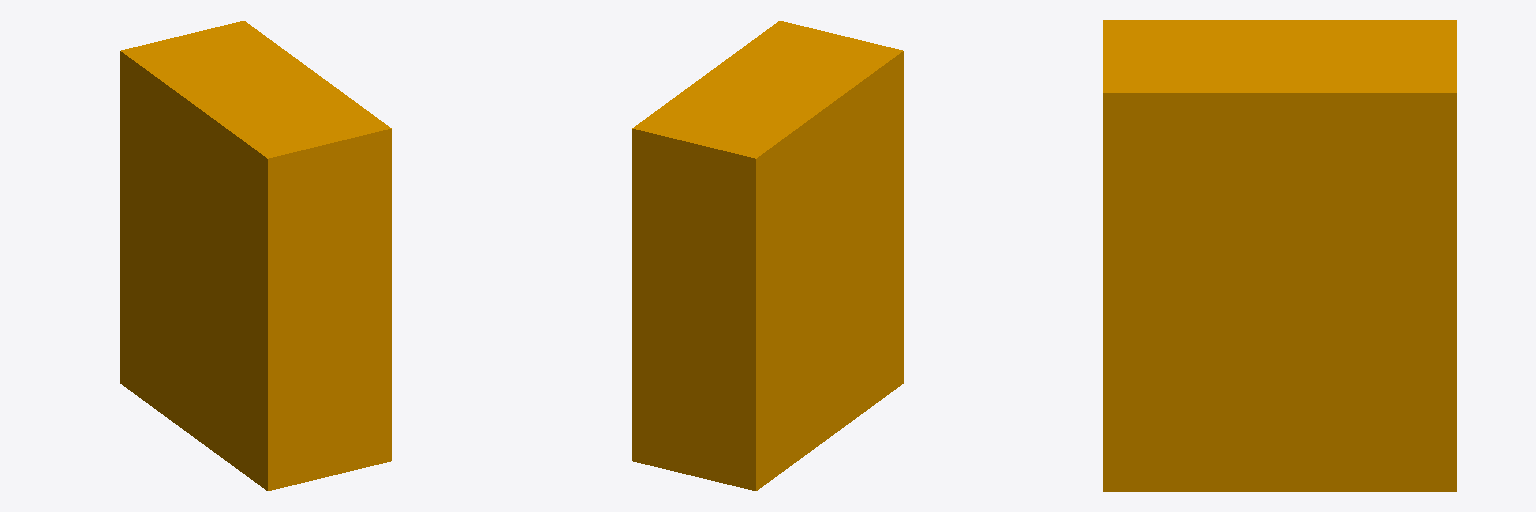
URDF robot description (box_3):
<robot name="box_3">
        <link name="base">
            <inertial>
                <mass value="0.2"/>
                <inertia ixx="0.0001" ixy="0" ixz="0" iyy="0.0001" iyz="0" izz="0.0001"/>
            </inertial>
            <visual>
                <geometry><mesh filename="box_3.obj" scale="1 1 1"/></geometry>
            </visual>
            <collision>
                <geometry><box size="0.025667980077840043 0.05290958749639613 0.06584294254184517"/></geometry>
            </collision>
        </link></robot>

--- Render facts (derived) ---
The picture shows the robot from 3 angles, left to right: view 1: azimuth 30°, elevation 25°; view 2: azimuth 150°, elevation 25°; view 3: azimuth 270°, elevation 25°; orthographic projection.
Robot: box_3 — 1 links, 0 joints (none); root link base; default pose: every joint at zero.
Links seen in each view (by area): view 1: base; view 2: base; view 3: base.
Boxes of the visible links, x1,y1,x2,y2 form: base: (120, 21, 391, 490); base: (632, 21, 903, 490); base: (1103, 20, 1456, 491).
Bounding box of the posed robot: 0.0257 × 0.0529 × 0.0658 m (x, y, z).
Meshes: 1 distinct files referenced, 1 mesh visuals loaded (1 OBJ).
